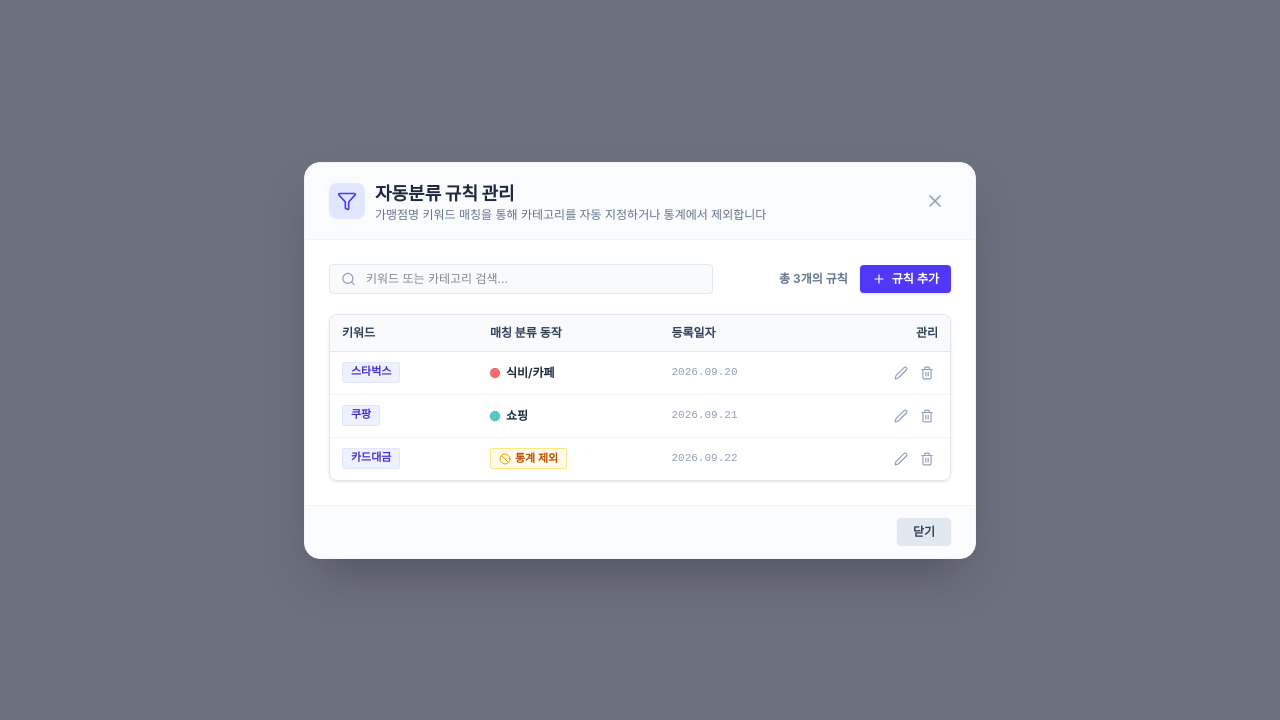
ExpenseRulesModal 컴포넌트 › 실시간 키워드/카테고리 검색 입력창을 통해 목록을 필터링한다
Expected: the text "스타벅스" is shown, [342,362,400,383]
Expected: the text "쿠팡" is shown, [342,405,380,426]
In the field with placeholder "키워드 또는 카테고리 검색...": (521,278) [329,264,713,294], type "스타"
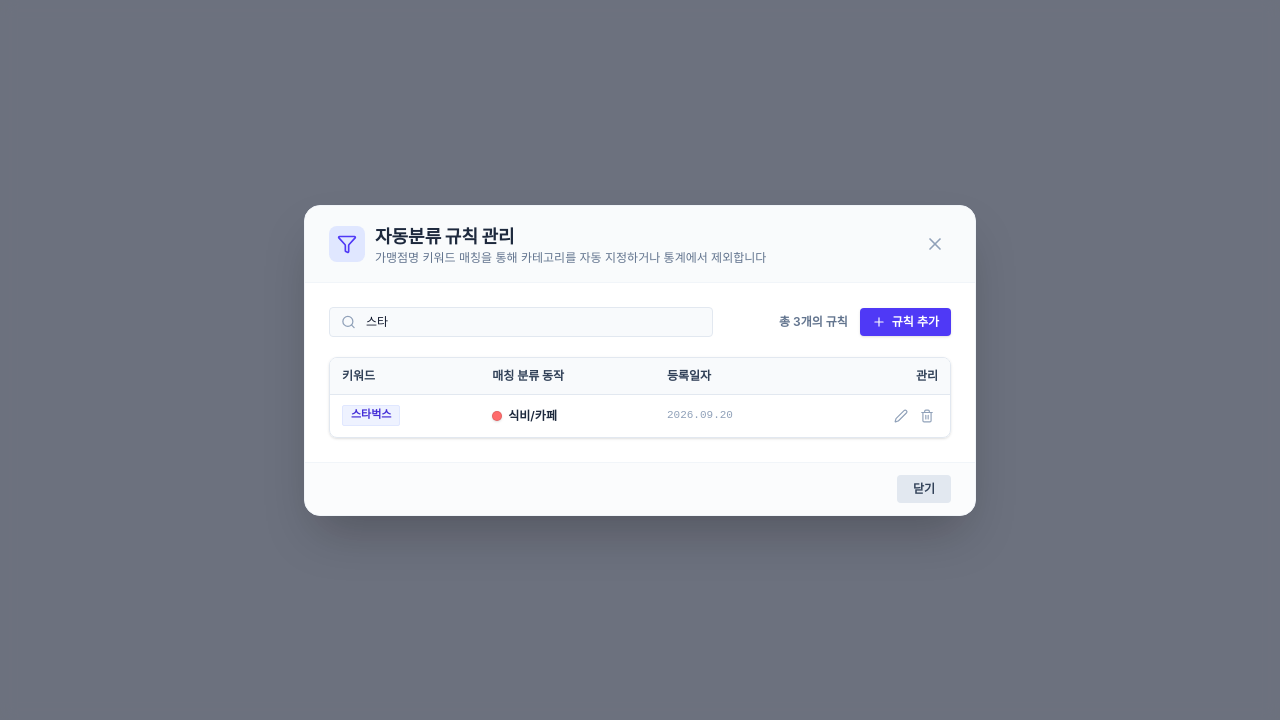
Expected: the text "스타벅스" is shown, [342,405,400,426]
Result: the text "쿠팡" is gone
Result: the text "카드대금" is gone
# 카테고리명 검색
Replace the text in the field with placeholder "키워드 또는 카테고리 검색..." with "쇼핑": (521,322) [329,306,713,336]
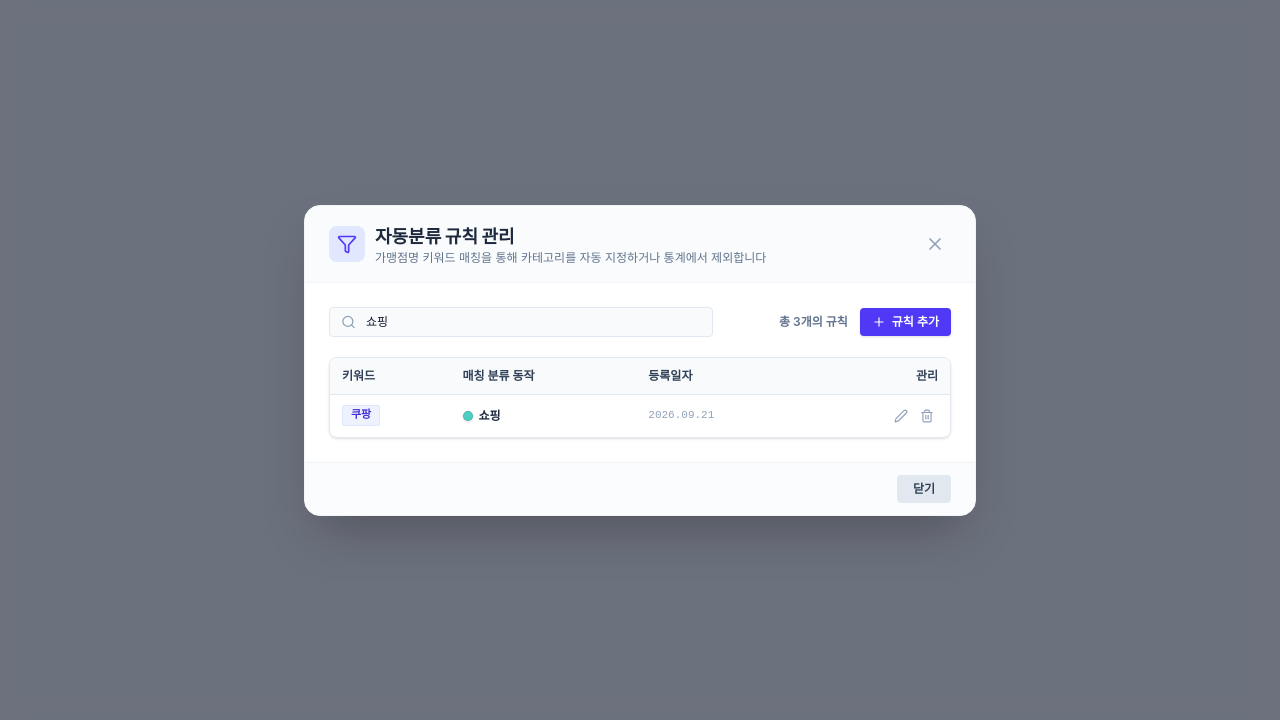
Result: the text "쿠팡" is shown at [342,405,380,426]
Result: the text "스타벅스" is gone
